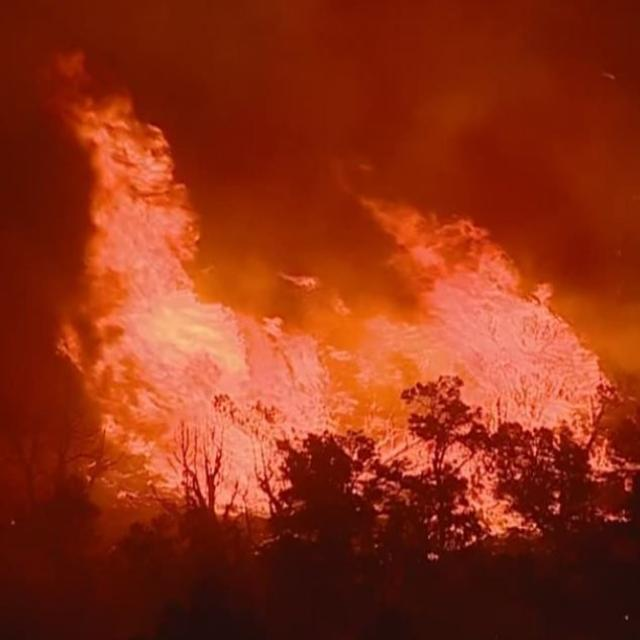Fire: (60, 115, 603, 538)
Smoke: (196, 0, 630, 309), (0, 0, 192, 112)
